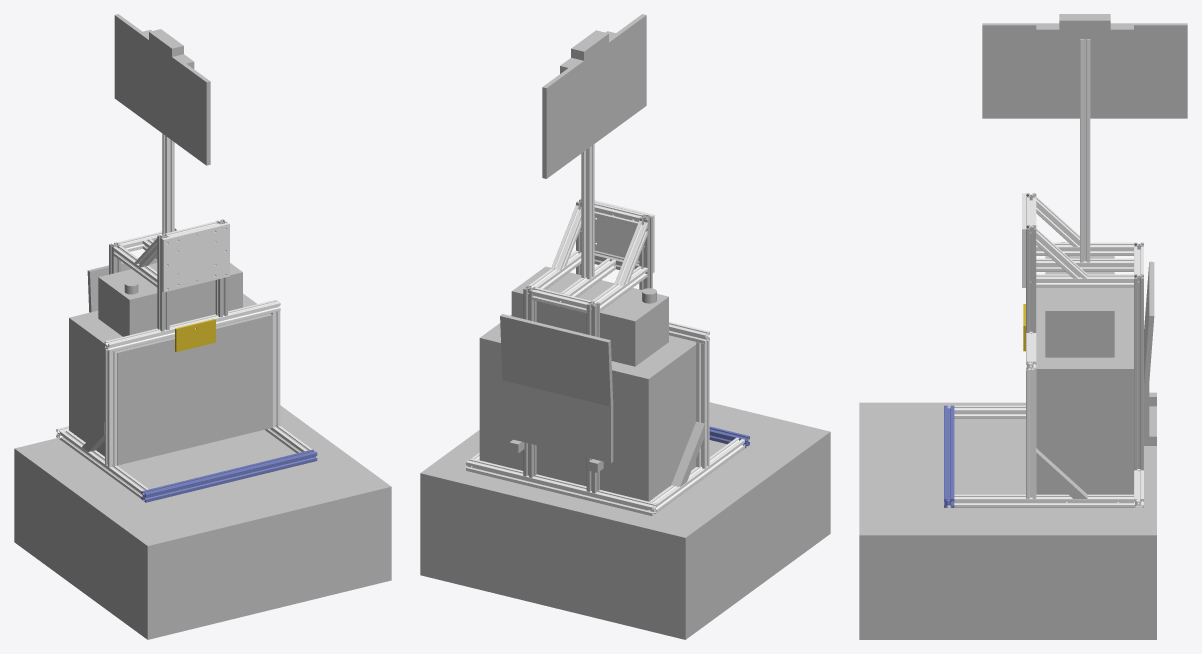
Rendered from OPL_hard.dae.
3 views of the same model, side by side, from view 1: azimuth 30°, elevation 25°; view 2: azimuth 150°, elevation 25°; view 3: azimuth 270°, elevation 25° (orthographic). The views are drawn at different scales.
Visible parts, largest first — view 1: scout mini (1), Body152, Body183, Body153, Body217, Body199, Body194, Body189, Body228, Body198, Body193, Body219 (+6 smaller); view 2: scout mini (1), Body152, Body183, Body187, Body153, Body186, Body202, Body228, Body217, Body189, Body198, Body245 (+11 smaller); view 3: scout mini (1), Body183, Body152, Body153, Body228, Body196, Body240, Body193, Body211, Body238, Body182, Body199 (+8 smaller).
Part boxes in pixels (left/top/right/bottom): scout mini (1): left=14, top=405, right=391, bottom=639; Body152: left=69, top=293, right=272, bottom=465; Body183: left=114, top=14, right=210, bottom=165; Body153: left=98, top=263, right=242, bottom=336; Body217: left=162, top=222, right=229, bottom=292; Body199: left=141, top=449, right=317, bottom=502; Body194: left=104, top=299, right=280, bottom=352; Body189: left=105, top=350, right=116, bottom=467; Body228: left=162, top=133, right=174, bottom=233; Body198: left=61, top=430, right=148, bottom=498; Body193: left=270, top=311, right=280, bottom=427; Body219: left=175, top=319, right=215, bottom=352; scout mini (1): left=420, top=402, right=830, bottom=639; Body152: left=479, top=315, right=696, bottom=501; Body183: left=542, top=14, right=646, bottom=178; Body187: left=500, top=314, right=613, bottom=406; Body153: left=511, top=266, right=668, bottom=366; Body186: left=502, top=380, right=613, bottom=463; Body202: left=466, top=458, right=657, bottom=516; Body228: left=581, top=144, right=594, bottom=279; Body217: left=594, top=200, right=654, bottom=272; Body189: left=696, top=341, right=709, bottom=468; Body198: left=649, top=437, right=744, bottom=512; Body245: left=671, top=421, right=704, bottom=486; scout mini (1): left=859, top=402, right=1156, bottom=639; Body183: left=982, top=23, right=1187, bottom=118; Body152: left=1036, top=287, right=1133, bottom=494; Body153: left=1045, top=242, right=1114, bottom=357; Body228: left=1080, top=39, right=1090, bottom=262; Body196: left=954, top=494, right=1133, bottom=507; Body240: left=1134, top=274, right=1143, bottom=470; Body193: left=1026, top=368, right=1036, bottom=498; Body211: left=1036, top=274, right=1133, bottom=287; Body238: left=1026, top=225, right=1036, bottom=332; Body182: left=1036, top=25, right=1133, bottom=38; Body199: left=944, top=405, right=954, bottom=507.
Size of the model in its own units: 0.612 by 0.64 by 1.19.
